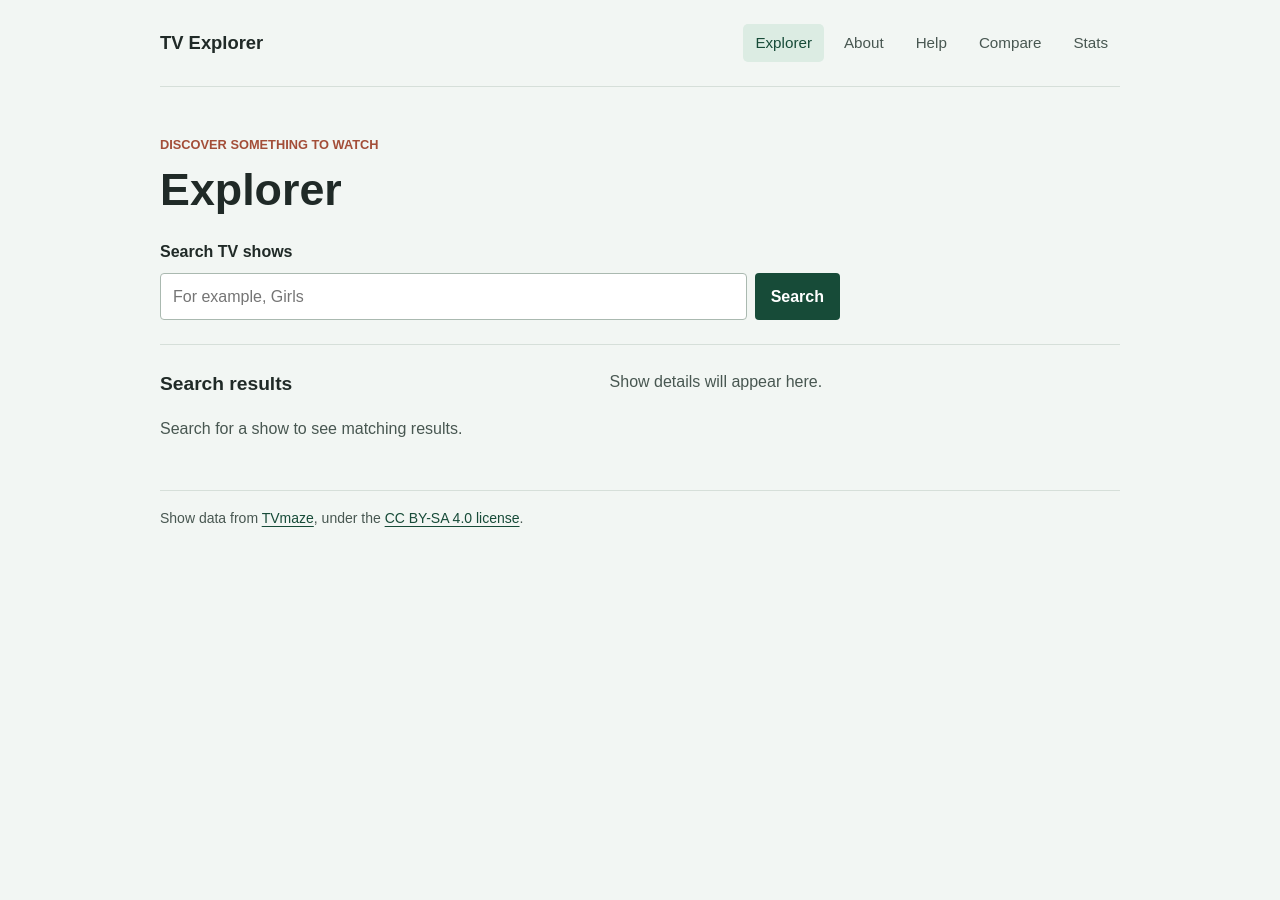
Test: app navigation › keeps the two compared shows while navigating to About and Compare
Type "two shows" into the search field labelled "Search TV shows".
click(453, 297); type("two shows")  # box [160,273,747,320]
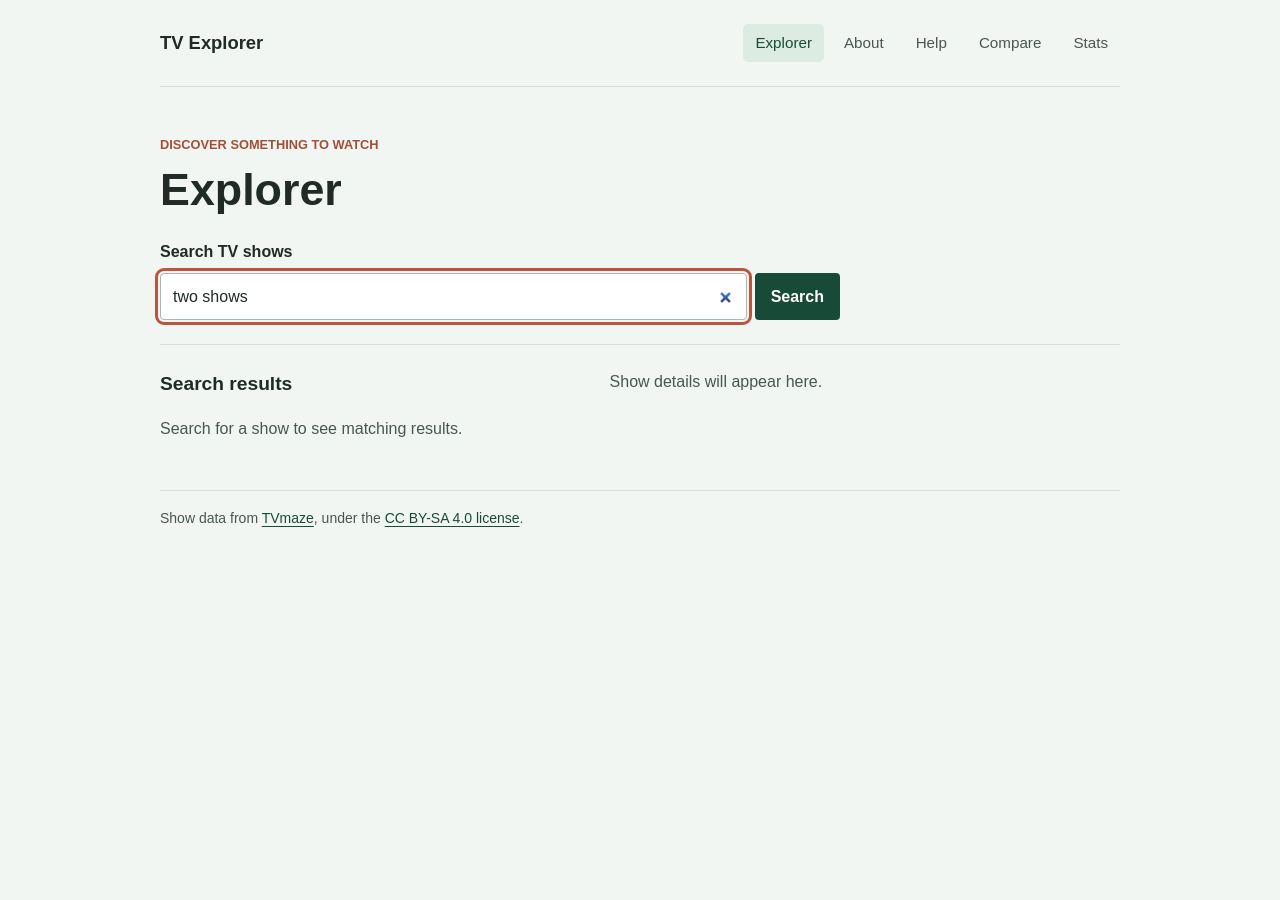
Click the button "Search".
click(797, 297)  # box [755,273,840,320]
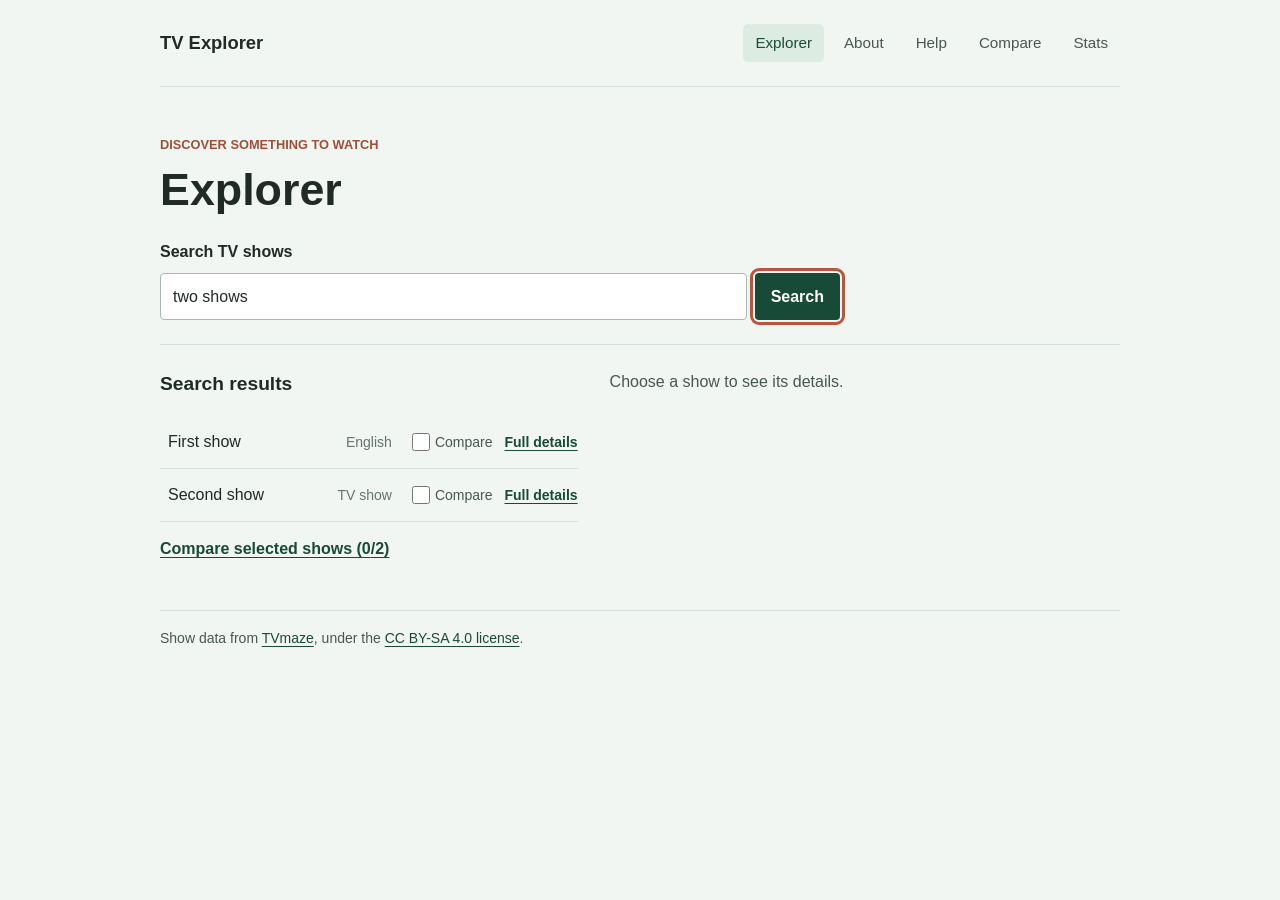
Click the checkbox named "Compare First show in comparison".
click(421, 442)  # box [412,433,430,451]
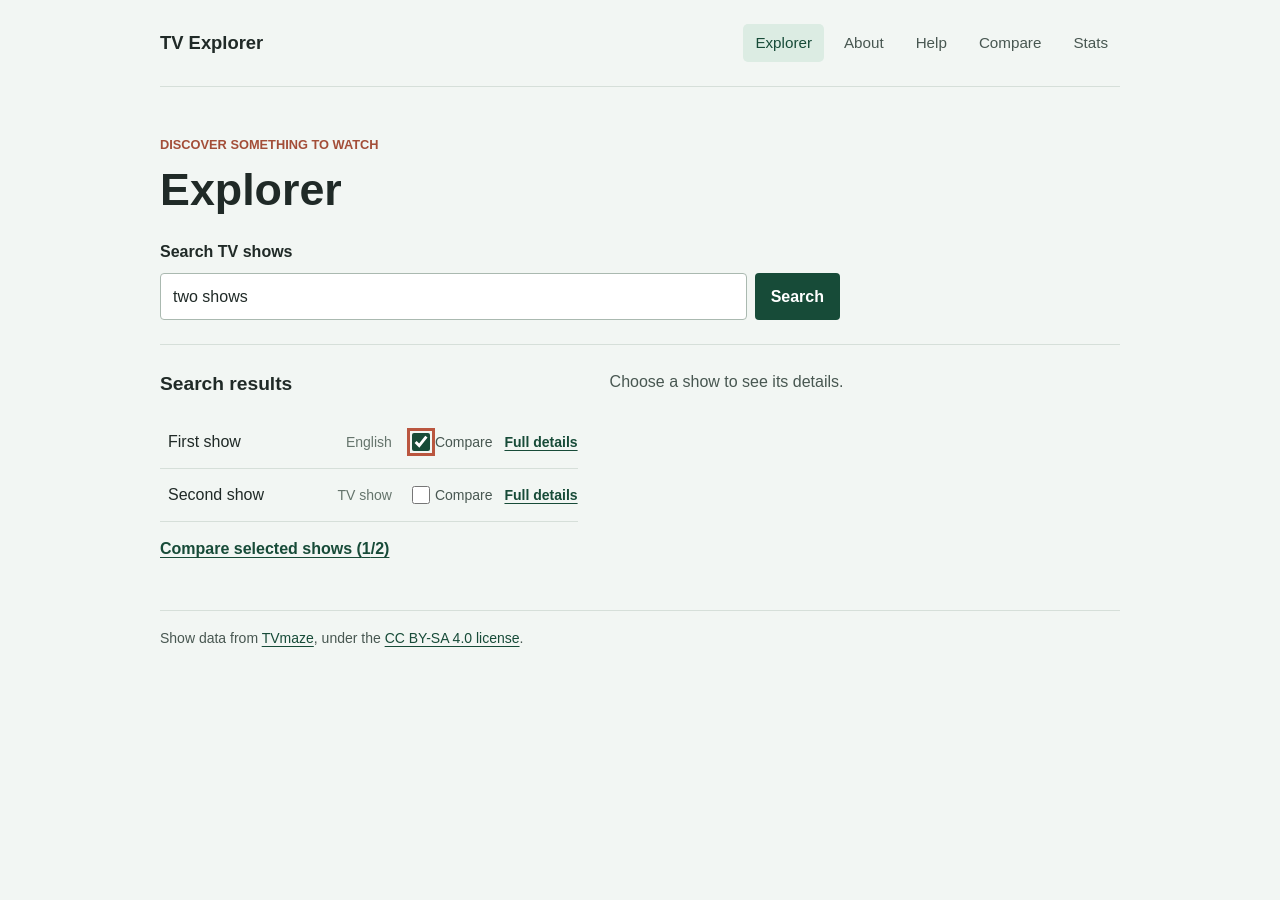
Click the checkbox named "Compare Second show in comparison".
click(421, 495)  # box [412,486,430,504]
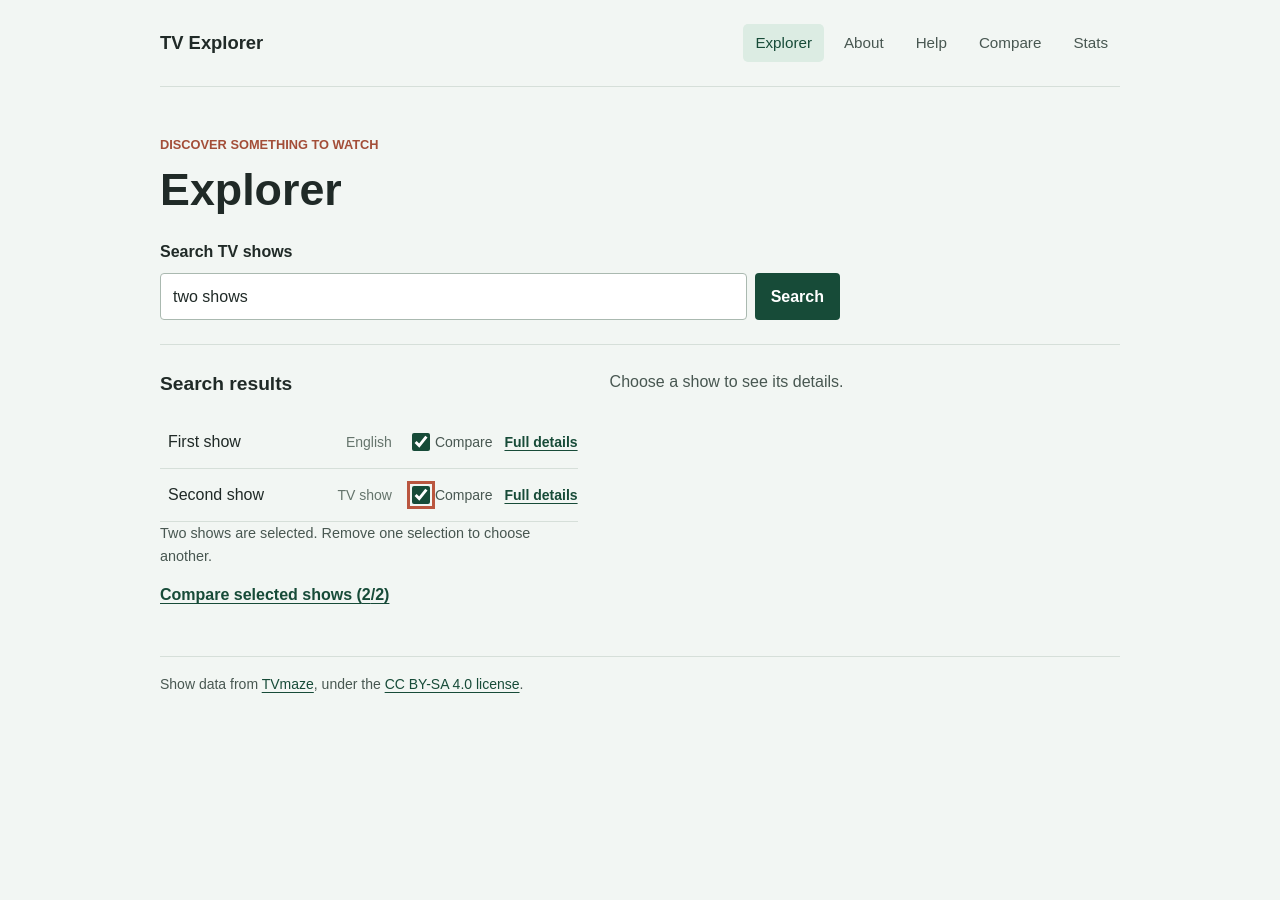
Click the link "About".
click(864, 42)  # box [844,34,884,51]
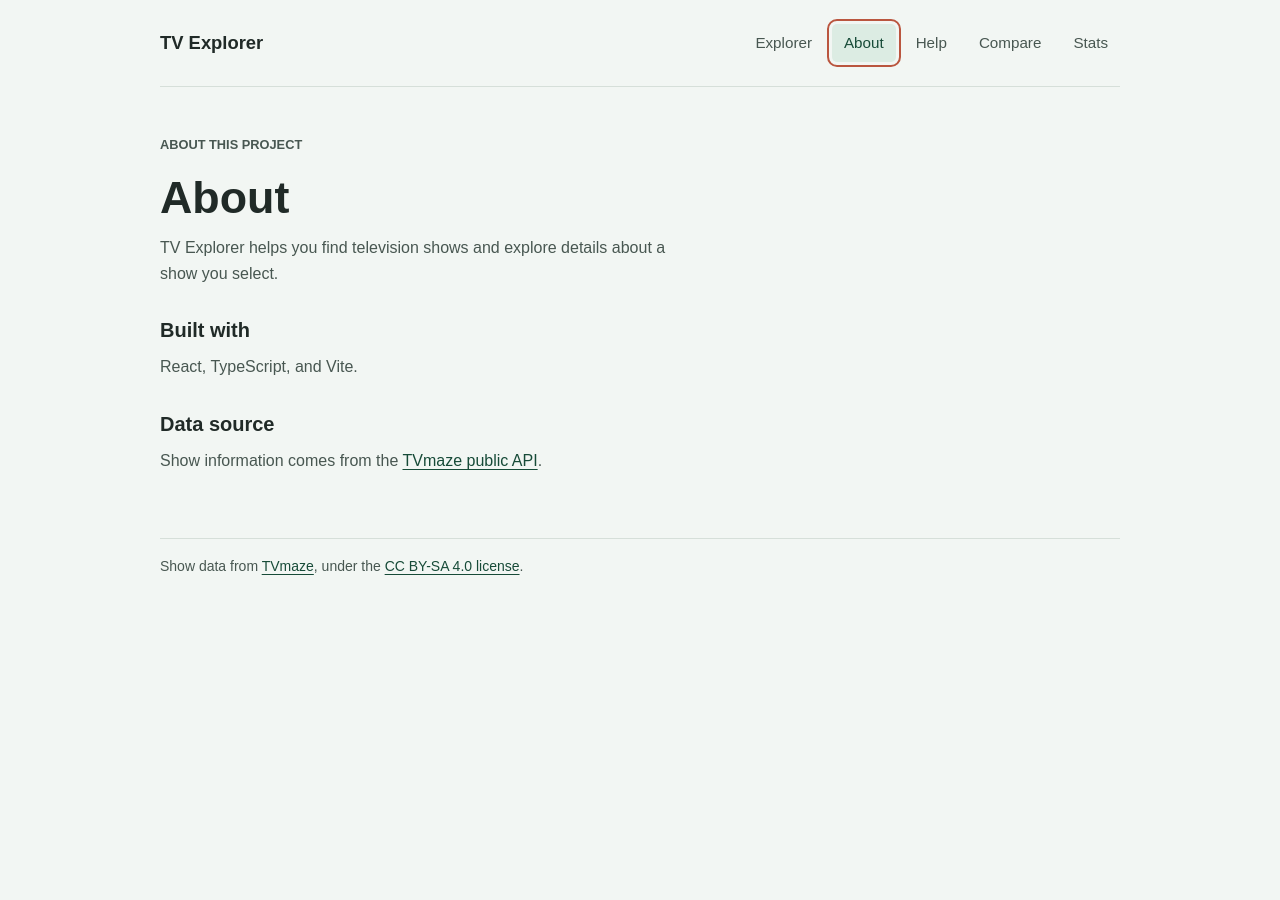
Click the link "Compare".
click(1010, 42)  # box [979,34,1041,51]
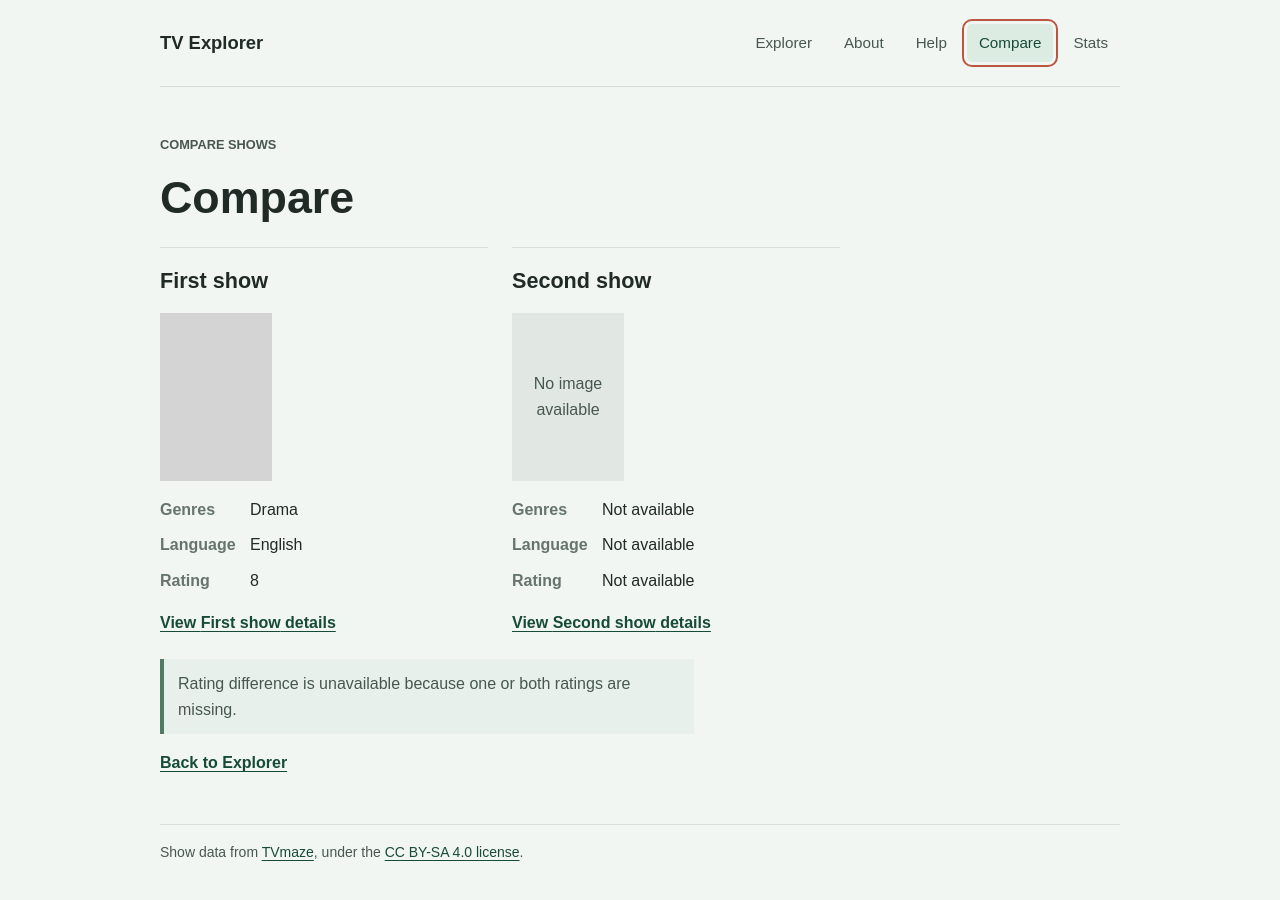
Expected: the heading "First show" is shown, [160,268,268,293]
Expected: the heading "Second show" is shown, [512,268,651,293]
Expected: the picture named "No image available for Second show" is shown, [512,313,624,481]
